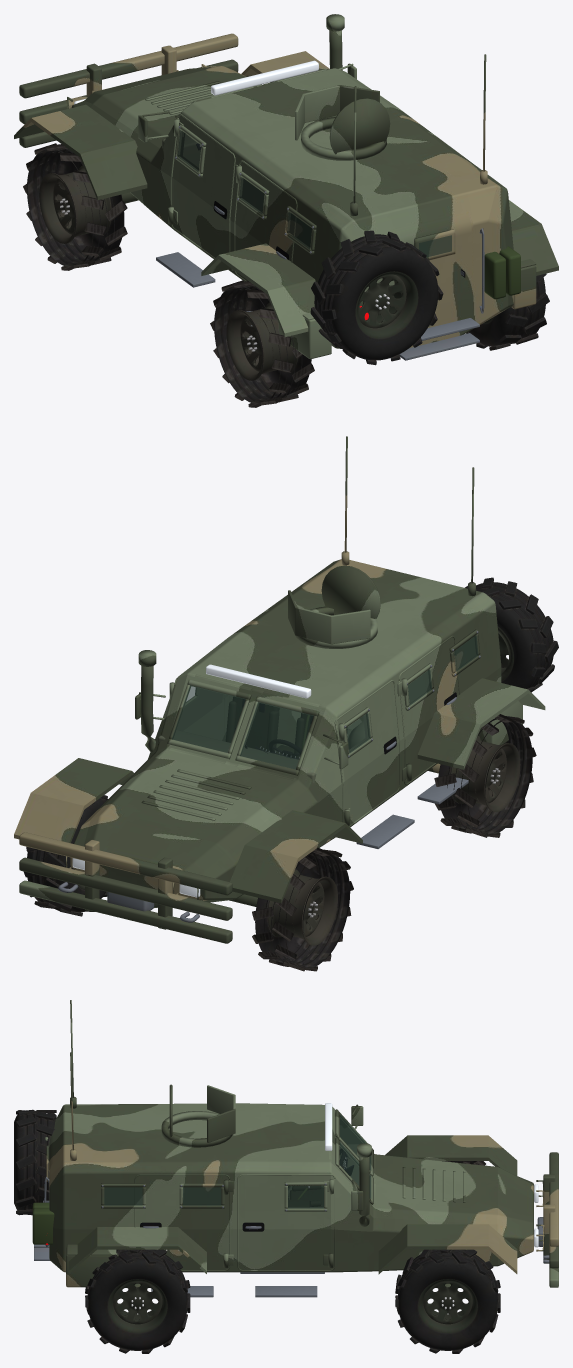
Rendered from ArmoredTruck.glb.
The picture shows the model from 3 angles, top to bottom: view 1: azimuth 30°, elevation 25°; view 2: azimuth 150°, elevation 25°; view 3: azimuth 270°, elevation 25°; orthographic projection. The views are drawn at different scales.
Parts seen in each view (by area): view 1: ArmoredTruck_Body, ArmoredTruck_Trim2, ArmoredTruck_Trim, ArmoredTruck_Wheel1, ArmoredTruck_Wheel3, ArmoredTruck_Wheel4, ArmoredTruck_Glass, ArmoredTruck_Lights, ArmoredTruck_Trim3, ArmoredTruck_Interior; view 2: ArmoredTruck_Body, ArmoredTruck_Trim2, ArmoredTruck_Wheel1, ArmoredTruck_Glass, ArmoredTruck_Wheel3, ArmoredTruck_Trim, ArmoredTruck_Interior, ArmoredTruck_Wheel2, ArmoredTruck_Lights, ArmoredTruck_Trim3; view 3: ArmoredTruck_Body, ArmoredTruck_Trim2, ArmoredTruck_Wheel2, ArmoredTruck_Wheel4, ArmoredTruck_Trim, ArmoredTruck_Glass, ArmoredTruck_Interior, ArmoredTruck_Trim3, ArmoredTruck_Lights.
Boxes of the visible parts, x1,y1,x2,y2 form: ArmoredTruck_Body: [14, 51, 558, 359]; ArmoredTruck_Trim2: [19, 14, 536, 360]; ArmoredTruck_Trim: [170, 113, 473, 365]; ArmoredTruck_Wheel1: [23, 143, 127, 270]; ArmoredTruck_Wheel3: [210, 280, 314, 407]; ArmoredTruck_Wheel4: [466, 273, 549, 350]; ArmoredTruck_Glass: [177, 130, 451, 257]; ArmoredTruck_Lights: [74, 60, 368, 319]; ArmoredTruck_Trim3: [67, 54, 486, 270]; ArmoredTruck_Interior: [162, 132, 201, 169]; ArmoredTruck_Body: [14, 559, 545, 907]; ArmoredTruck_Trim2: [19, 551, 480, 943]; ArmoredTruck_Wheel1: [252, 847, 353, 971]; ArmoredTruck_Glass: [172, 635, 478, 769]; ArmoredTruck_Wheel3: [434, 714, 536, 837]; ArmoredTruck_Trim: [174, 577, 558, 826]; ArmoredTruck_Interior: [158, 689, 366, 782]; ArmoredTruck_Wheel2: [23, 795, 107, 916]; ArmoredTruck_Lights: [72, 664, 311, 897]; ArmoredTruck_Trim3: [66, 436, 480, 900]; ArmoredTruck_Body: [48, 1085, 533, 1287]; ArmoredTruck_Trim2: [32, 1084, 558, 1297]; ArmoredTruck_Wheel2: [395, 1249, 500, 1353]; ArmoredTruck_Wheel4: [85, 1249, 190, 1353]; ArmoredTruck_Trim: [14, 1109, 335, 1271]; ArmoredTruck_Glass: [104, 1114, 371, 1208]; ArmoredTruck_Interior: [240, 1144, 359, 1273]; ArmoredTruck_Trim3: [45, 1000, 544, 1267]; ArmoredTruck_Lights: [45, 1103, 538, 1247].
Size of the model in its own units: 11.27 by 12.61 by 22.84.
Materials: 13 (10 with a texture image).
